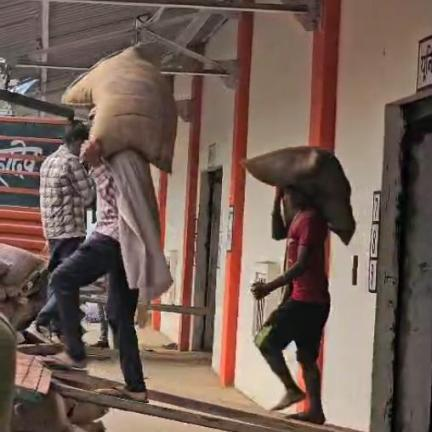Zone-Counting: (51, 46, 176, 401), (245, 147, 355, 424)
